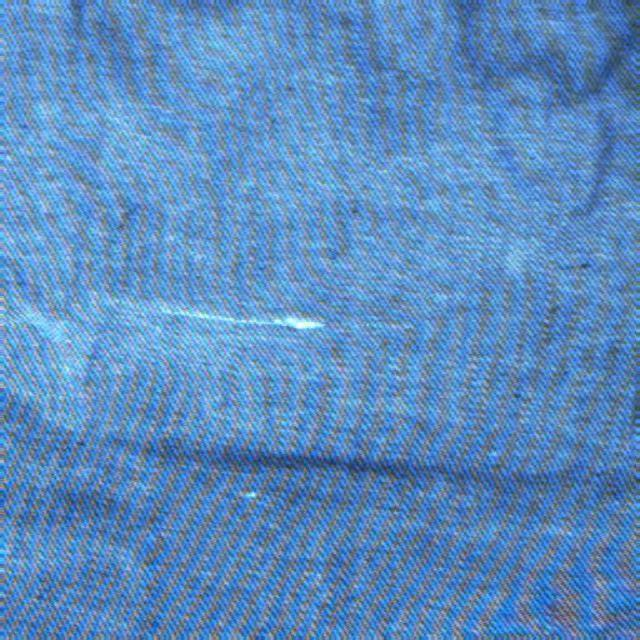pulled_or_thick_thread: (133, 295, 350, 333)
